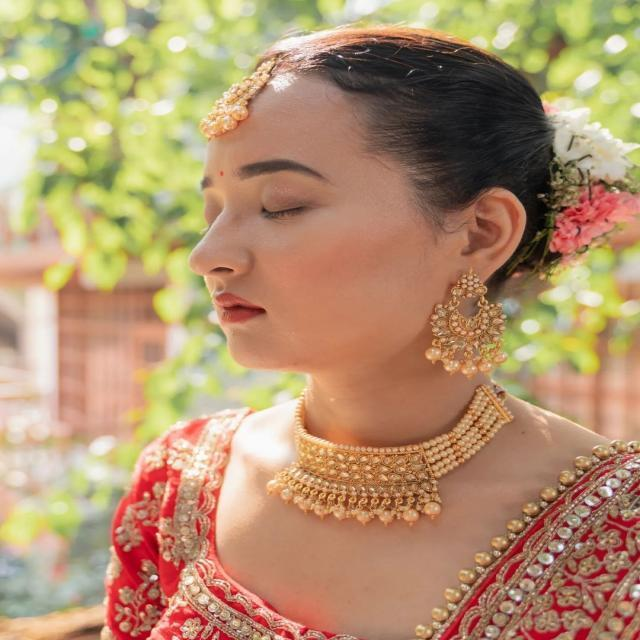Earring: (421, 264, 506, 392)
